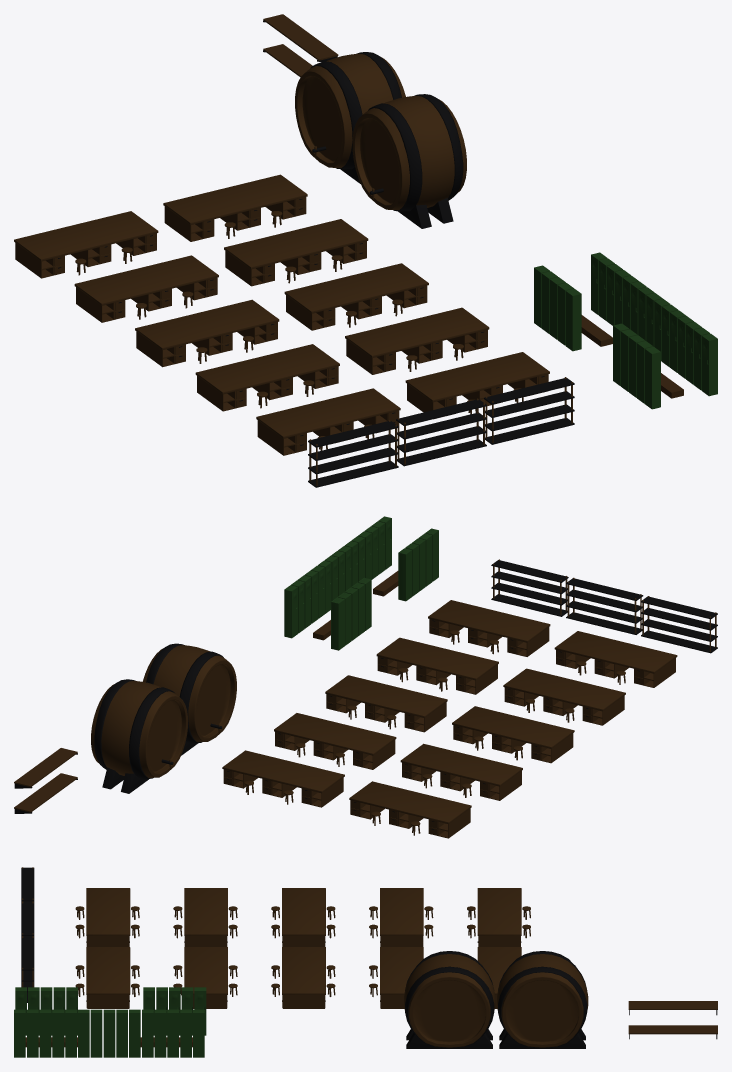
Rendered from WorkShop_StaticItems.FBX.
The picture shows the model from 3 angles, top to bottom: view 1: azimuth 30°, elevation 25°; view 2: azimuth 150°, elevation 25°; view 3: azimuth 270°, elevation 25°; orthographic projection. The views are drawn at different scales.
Visible parts, largest first — view 1: WorkShop_Wood, WorkShop_Metal, WorkShop_Lockers; view 2: WorkShop_Wood, WorkShop_Metal, WorkShop_Lockers; view 3: WorkShop_Wood, WorkShop_Lockers, WorkShop_Metal, WorkShop_LockerDoor_25.
Boxes of the visible parts, box(x1,y1,x2,y2) form: WorkShop_Wood: box(14, 14, 683, 485); WorkShop_Metal: box(58, 20, 574, 487); WorkShop_Lockers: box(534, 252, 717, 409); WorkShop_Wood: box(14, 559, 716, 838); WorkShop_Metal: box(14, 560, 717, 829); WorkShop_Lockers: box(284, 516, 438, 650); WorkShop_Wood: box(22, 867, 717, 1047); WorkShop_Lockers: box(14, 987, 206, 1057); WorkShop_Metal: box(21, 867, 717, 1048); WorkShop_LockerDoor_25: box(194, 990, 206, 1035).
Bounding box in the file's own units: 727 × 181 × 1377.
